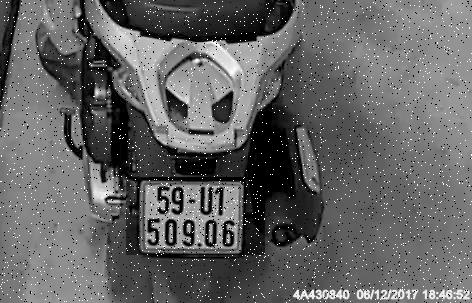License-plate: (127, 179, 266, 258)
